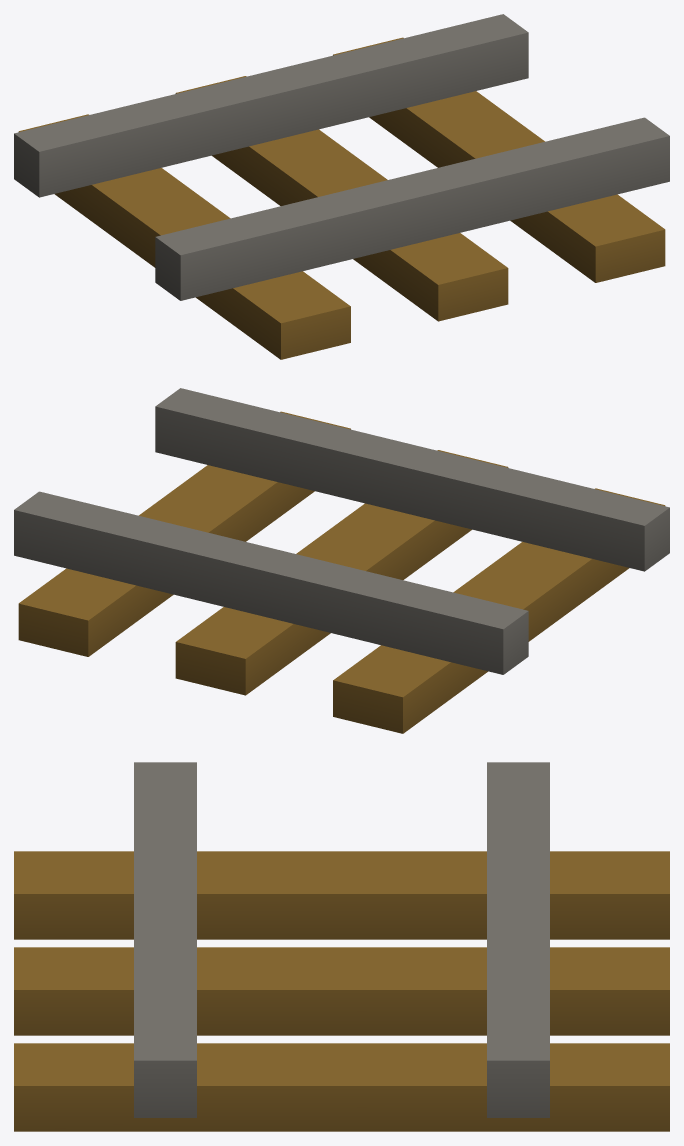
File: rail.glb
3 views of the same model, one above another, from view 1: azimuth 30°, elevation 25°; view 2: azimuth 150°, elevation 25°; view 3: azimuth 270°, elevation 25° (orthographic). The views are drawn at different scales.
Parts seen in each view (by area): view 1: rail; view 2: rail; view 3: rail.
Boxes of the visible parts, left/top/right/bottom form: rail: left=14, top=14, right=669, bottom=359; rail: left=14, top=388, right=669, bottom=733; rail: left=14, top=762, right=669, bottom=1131.
Size of the model in its own units: 0.28 by 0.045 by 0.26.
